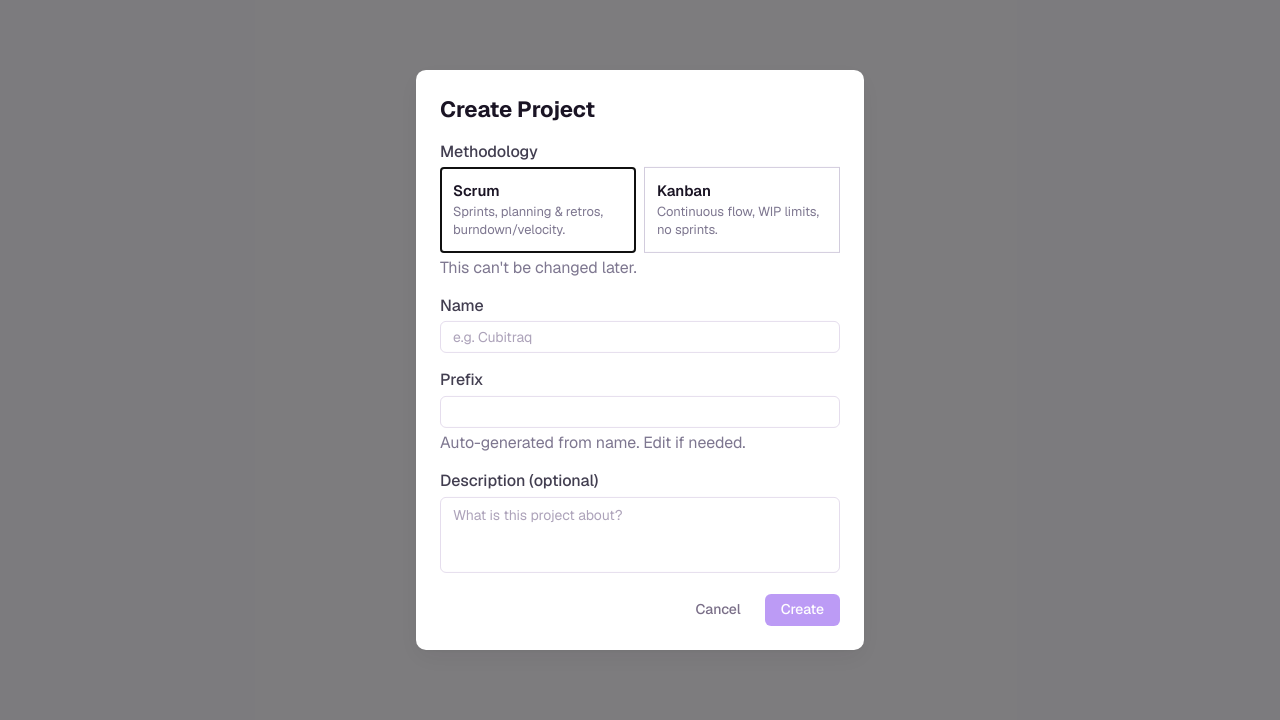
Test case: CreateProjectDialog › enables Create after choosing a methodology and toggles aria-checked
Type "Demo" into the field with placeholder "e.g. Cubitraq".
click(640, 337); type("Demo")  # box [440,321,840,353]
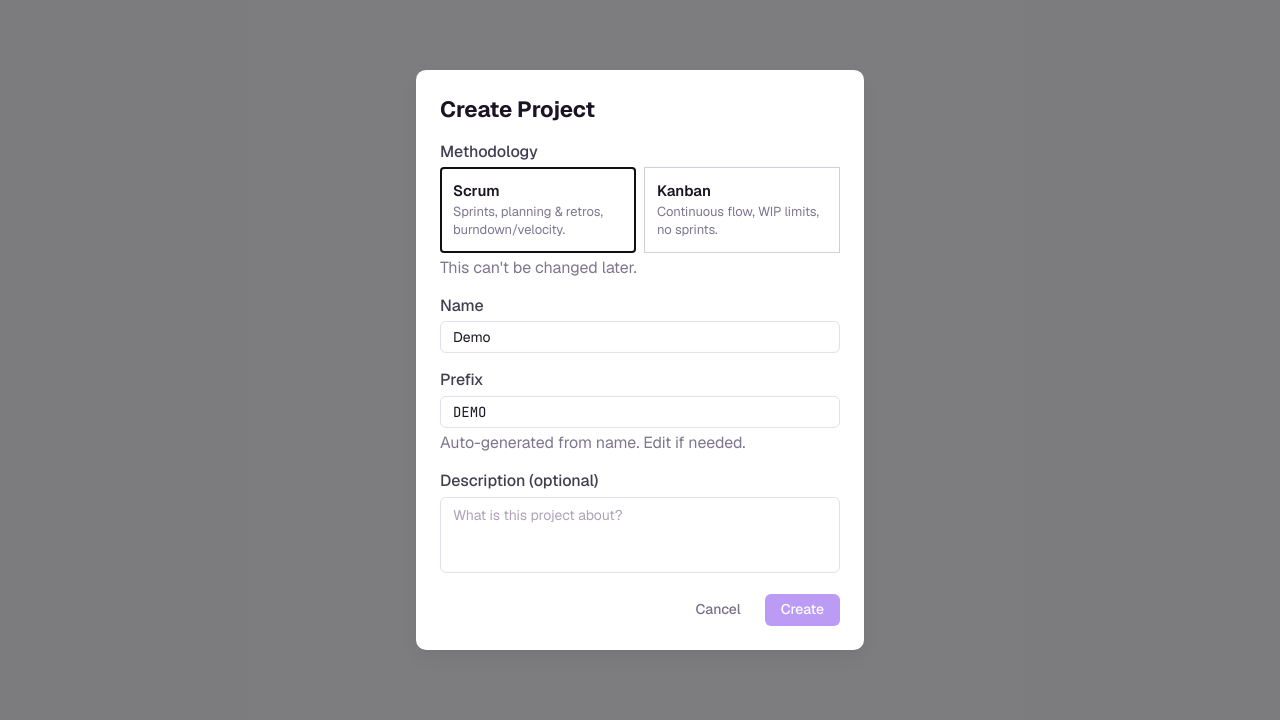
Click the radio button labelled "Kanban Continuous flow, WIP limits, no sprints.".
click(742, 210)  # box [644,167,840,252]
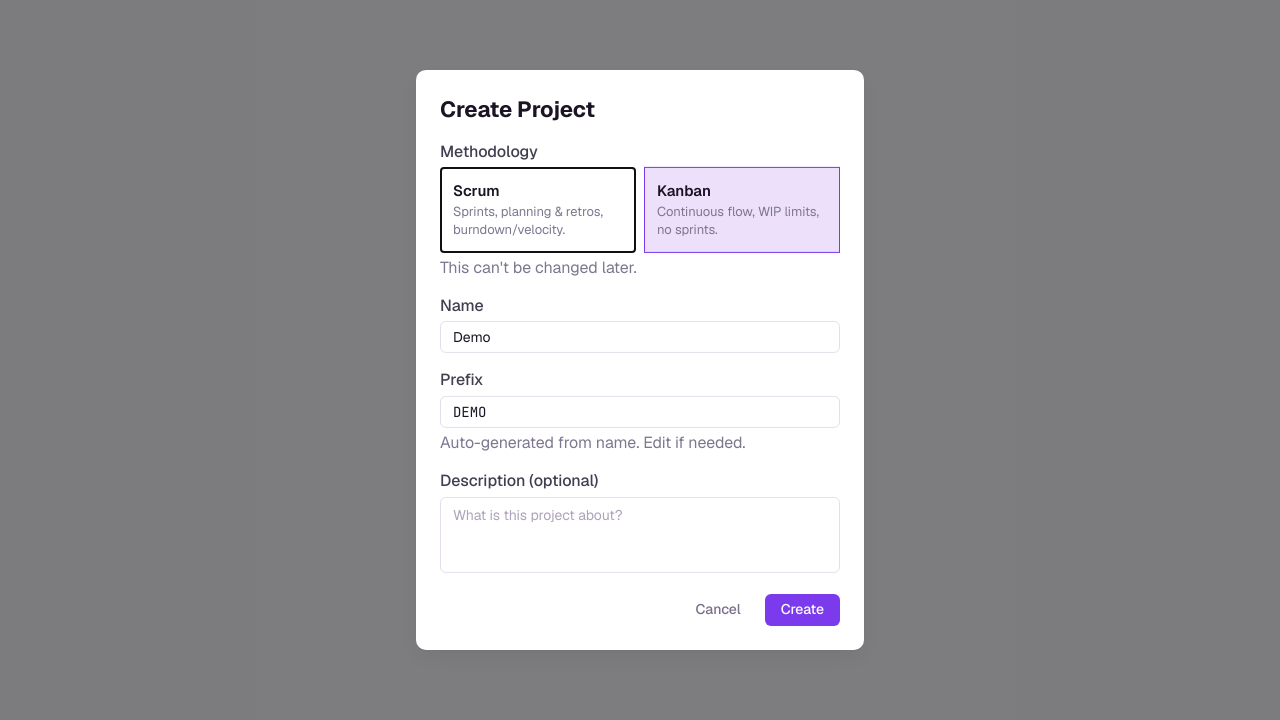
Expected: the button "Create" is enabled, [765,594,840,626]
